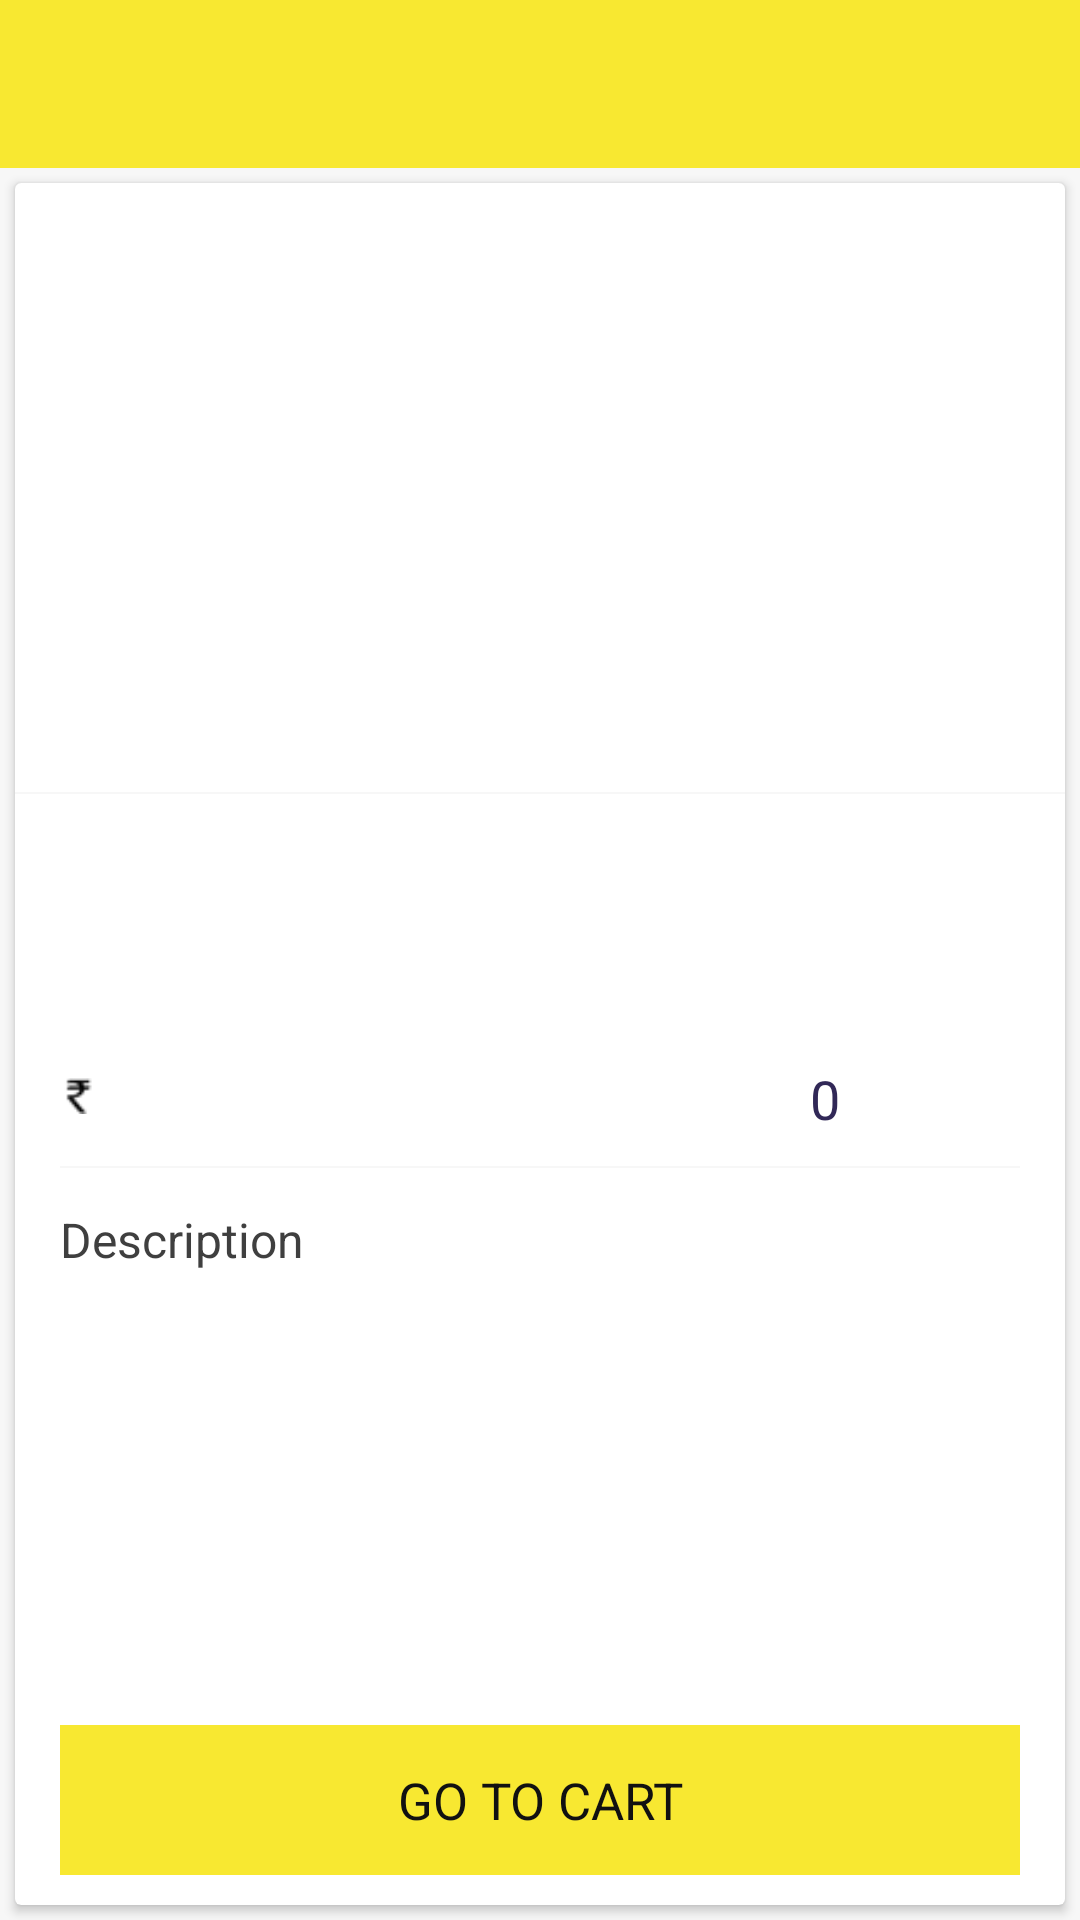

Screen size 1080px×1920px. Icon name, then its center in pixels as [x,y]:
rup: [78,1096]
